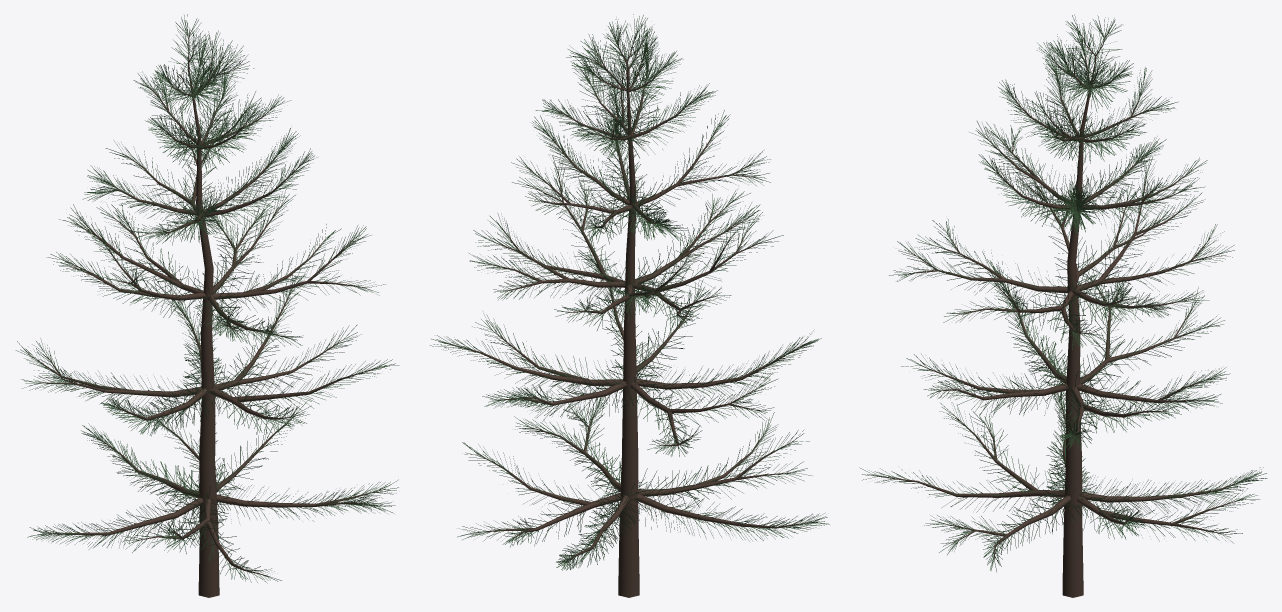
File: Tree_08.fbx
The picture shows the model from 3 angles, left to right: view 1: azimuth 30°, elevation 25°; view 2: azimuth 150°, elevation 25°; view 3: azimuth 270°, elevation 25°; orthographic projection. The views are drawn at different scales.
Parts seen in each view (by area): view 1: leaves_08, Tree_08; view 2: leaves_08, Tree_08; view 3: leaves_08, Tree_08.
Part boxes in pixels (x1=…): leaves_08: x1=15, y1=14, x2=399, y2=583; Tree_08: x1=28, y1=33, x2=384, y2=597; leaves_08: x1=430, y1=14, x2=829, y2=570; Tree_08: x1=445, y1=31, x2=809, y2=597; leaves_08: x1=859, y1=14, x2=1267, y2=572; Tree_08: x1=876, y1=32, x2=1249, y2=597.
Bounding box in the file's own units: 321 × 510 × 329.
